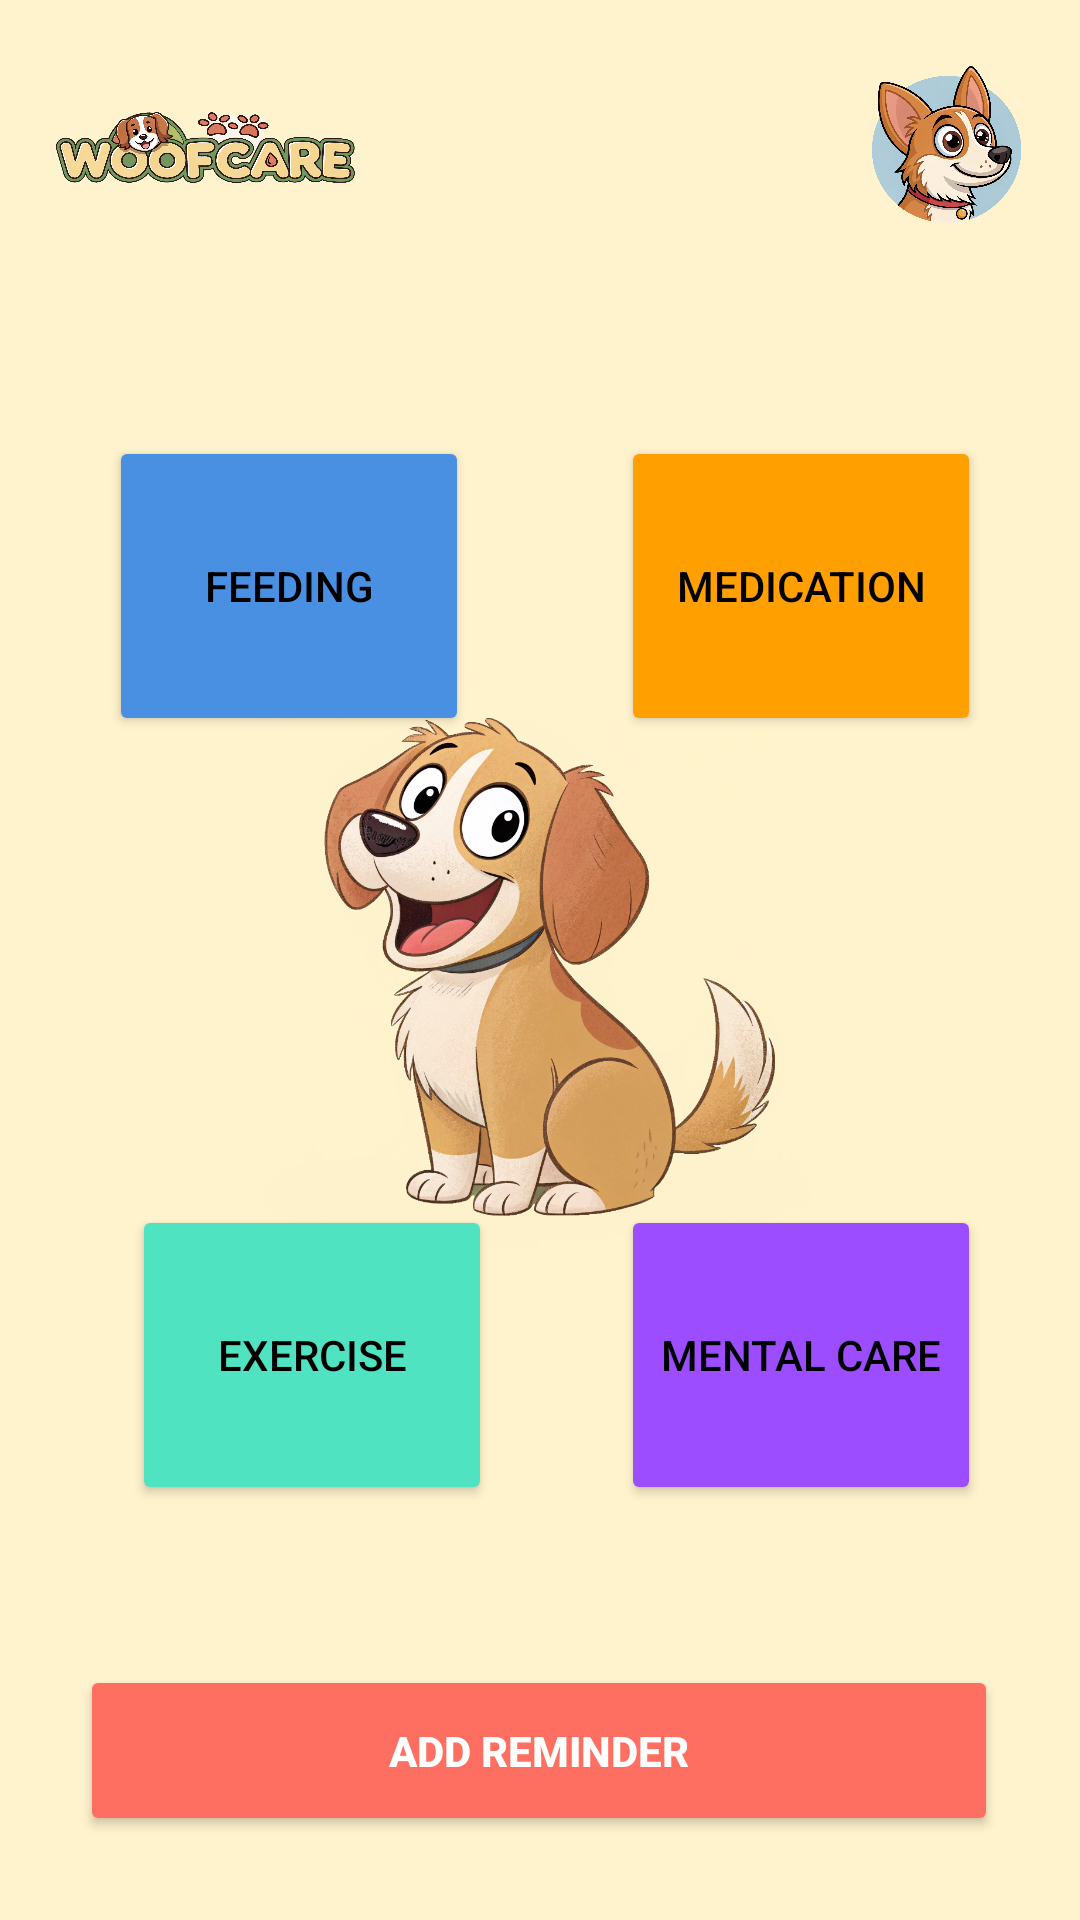

Icon click points for this 1080px×1920px phone screenshot, format (x,y):
profile: (946,143)
